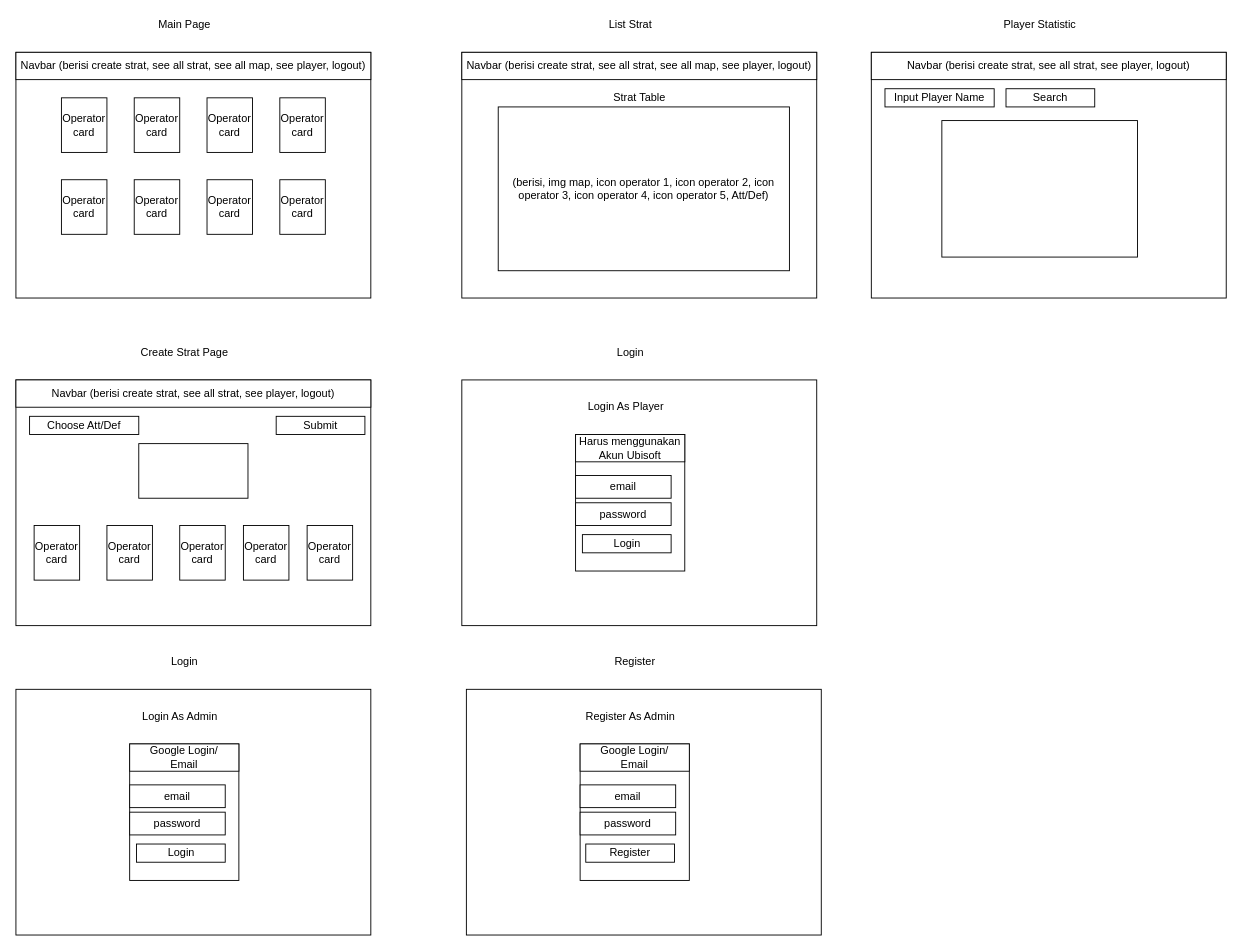
The diagram is 1242 pixels wide and 951 high, and some of its shapes have lost their labels. The centre of each missing label's shape, as x and y in pixels:
Choose Map: [193,470]
Tabel Berisi Statistic Data Player (lama bermain, rank perseason, K/D): [1039,188]
